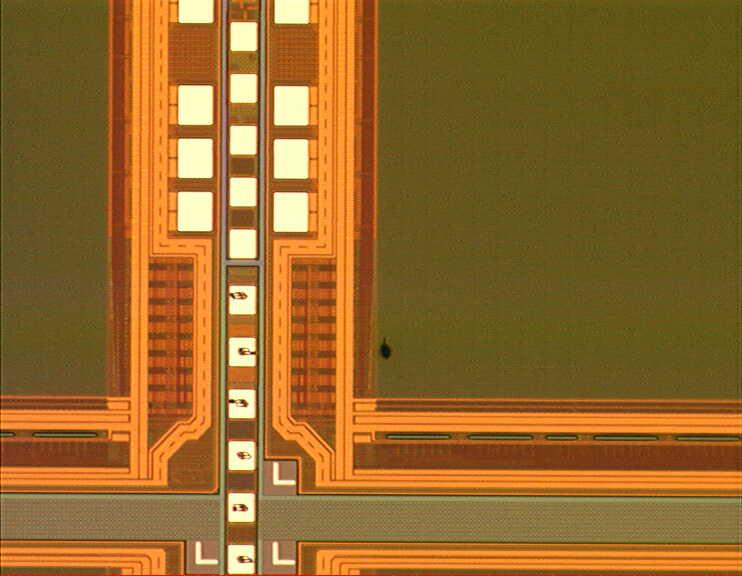PIQ PARTICLE: (374, 334, 403, 364)
